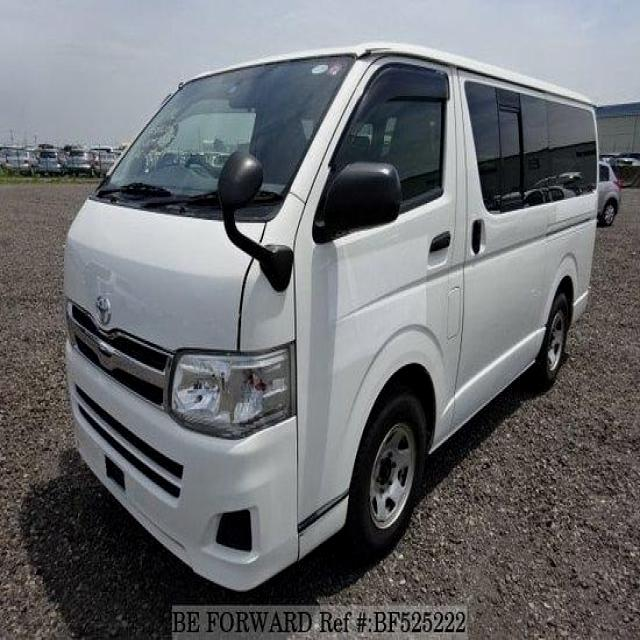Bus: (64, 81, 602, 498)
